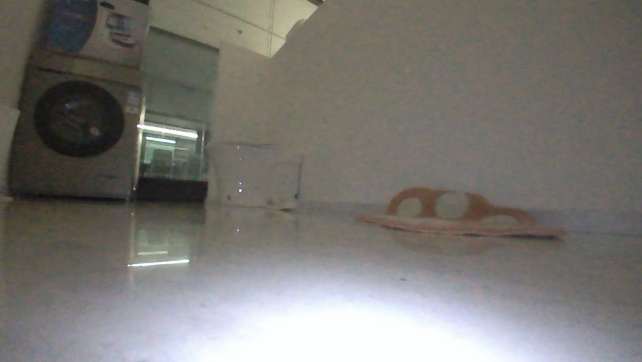blanket: (350, 202, 570, 239)
toilet: (200, 138, 306, 210)
washing_machine: (6, 45, 151, 205)
